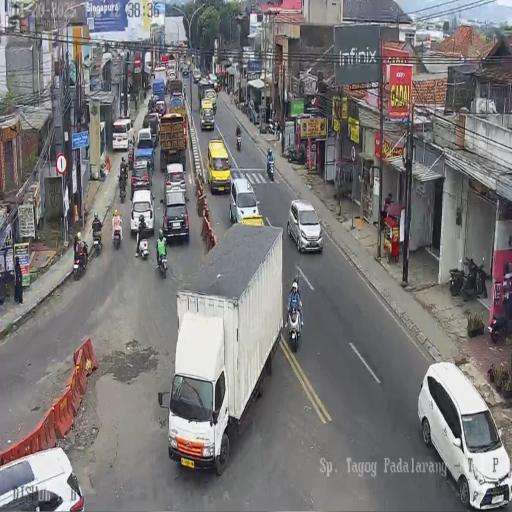3: (165, 226, 282, 471), (159, 110, 187, 171), (153, 66, 167, 90), (144, 51, 152, 75)
car: (417, 365, 511, 509), (0, 448, 84, 512), (286, 199, 322, 254), (228, 178, 262, 226), (161, 188, 190, 244), (207, 138, 232, 193), (130, 188, 155, 236), (130, 157, 152, 196), (164, 162, 187, 197), (112, 116, 134, 152), (136, 126, 155, 158), (202, 88, 217, 114), (153, 100, 167, 119), (169, 92, 184, 108), (208, 74, 218, 91), (166, 68, 176, 82), (193, 70, 201, 83), (182, 67, 189, 77)
truck: (450, 255, 488, 301), (490, 268, 512, 340), (287, 302, 302, 352), (73, 244, 88, 280), (286, 144, 306, 164), (156, 243, 168, 276), (112, 220, 122, 250), (92, 222, 102, 252), (118, 177, 128, 203), (267, 158, 275, 180), (241, 97, 250, 116), (127, 151, 134, 171), (236, 133, 242, 151), (182, 82, 186, 100), (166, 78, 169, 93)
